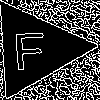F: (10, 23, 48, 71)
